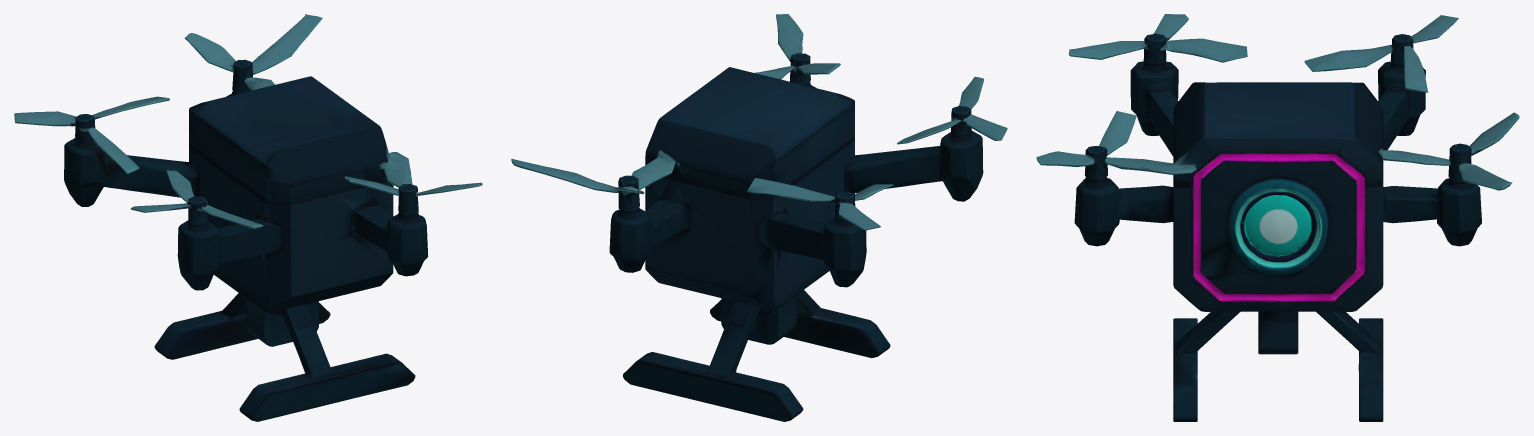
The model's file is DronePerseguidor.fbx.
3 views of the same model, side by side, from view 1: azimuth 30°, elevation 25°; view 2: azimuth 150°, elevation 25°; view 3: azimuth 270°, elevation 25° (orthographic). The views are drawn at different scales.
Parts seen in each view (by area): view 1: tripo_node_3bd1ce2e, tripo_node_3bd1ce2e.003, tripo_node_3bd1ce2e.002, tripo_node_3bd1ce2e.004, tripo_node_3bd1ce2e.001; view 2: tripo_node_3bd1ce2e, tripo_node_3bd1ce2e.003, tripo_node_3bd1ce2e.002, tripo_node_3bd1ce2e.004, tripo_node_3bd1ce2e.001; view 3: tripo_node_3bd1ce2e, tripo_node_3bd1ce2e.001, tripo_node_3bd1ce2e.002, tripo_node_3bd1ce2e.004, tripo_node_3bd1ce2e.003.
Boxes of the visible parts, <box> form: tripo_node_3bd1ce2e: <box>64,76,427,421</box>; tripo_node_3bd1ce2e.003: <box>184,14,322,93</box>; tripo_node_3bd1ce2e.002: <box>14,96,169,173</box>; tripo_node_3bd1ce2e.004: <box>344,152,482,215</box>; tripo_node_3bd1ce2e.001: <box>131,170,262,228</box>; tripo_node_3bd1ce2e: <box>609,67,983,421</box>; tripo_node_3bd1ce2e.003: <box>511,157,674,211</box>; tripo_node_3bd1ce2e.002: <box>747,178,893,230</box>; tripo_node_3bd1ce2e.004: <box>755,14,840,85</box>; tripo_node_3bd1ce2e.001: <box>897,77,1007,144</box>; tripo_node_3bd1ce2e: <box>1074,61,1481,421</box>; tripo_node_3bd1ce2e.001: <box>1068,14,1247,64</box>; tripo_node_3bd1ce2e.002: <box>1304,15,1458,92</box>; tripo_node_3bd1ce2e.004: <box>1036,111,1195,180</box>; tripo_node_3bd1ce2e.003: <box>1382,112,1519,190</box>.
Size of the model in its own units: 87.57 by 63.37 by 100.
